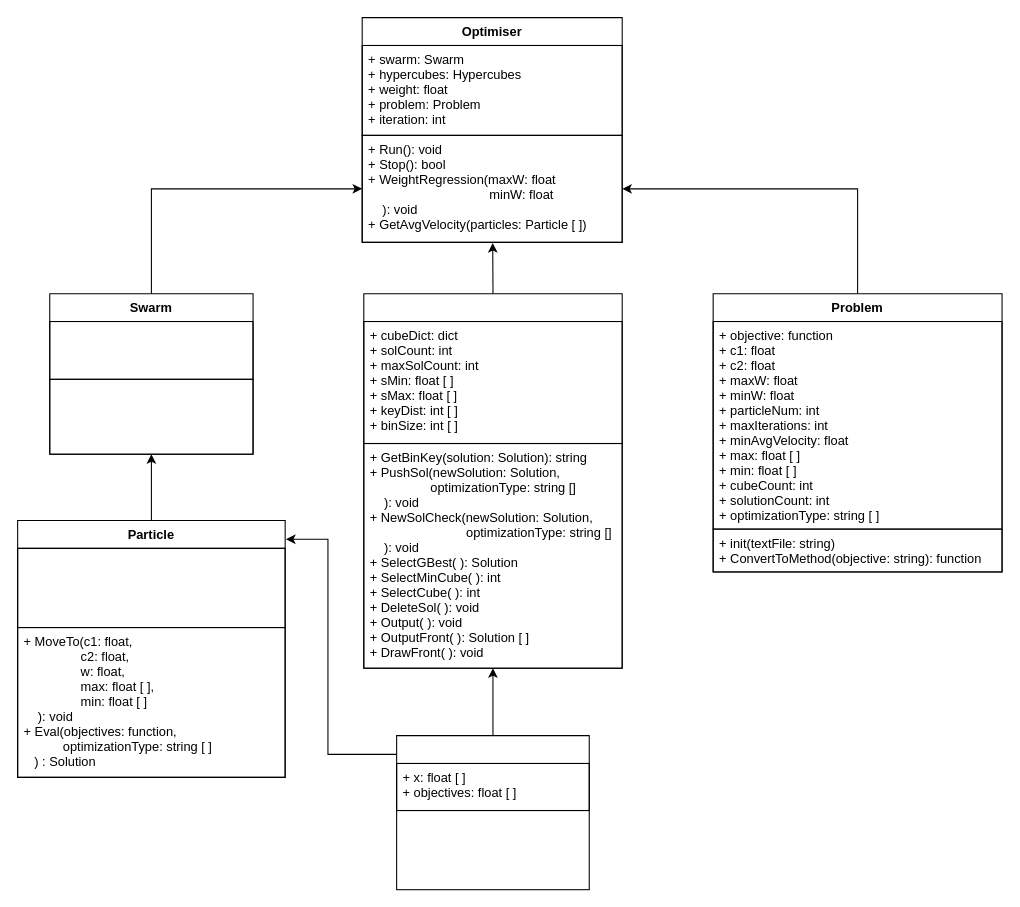
The diagram is 1020 pixels wide and 907 high, and some of its shapes have lost their labels. The box of each missing label's shape, as (x1, y1, x2, y2) in pixels:
+ Dominated( solution: Solution, optimizationType: string [ ] ): int: (396, 809, 589, 890)
+ init(particleNum: int, max: float [ ], min: float [ ] ): (49, 378, 253, 454)
+ particles: Particle [ ] + evalCount: int: (49, 320, 253, 379)
+ pBest: Solution + sBest: Solution + x: float [ ] + velocity: float [ ]: (17, 547, 285, 628)
Hypercubes: (363, 293, 622, 668)
Solution: (396, 735, 589, 811)
